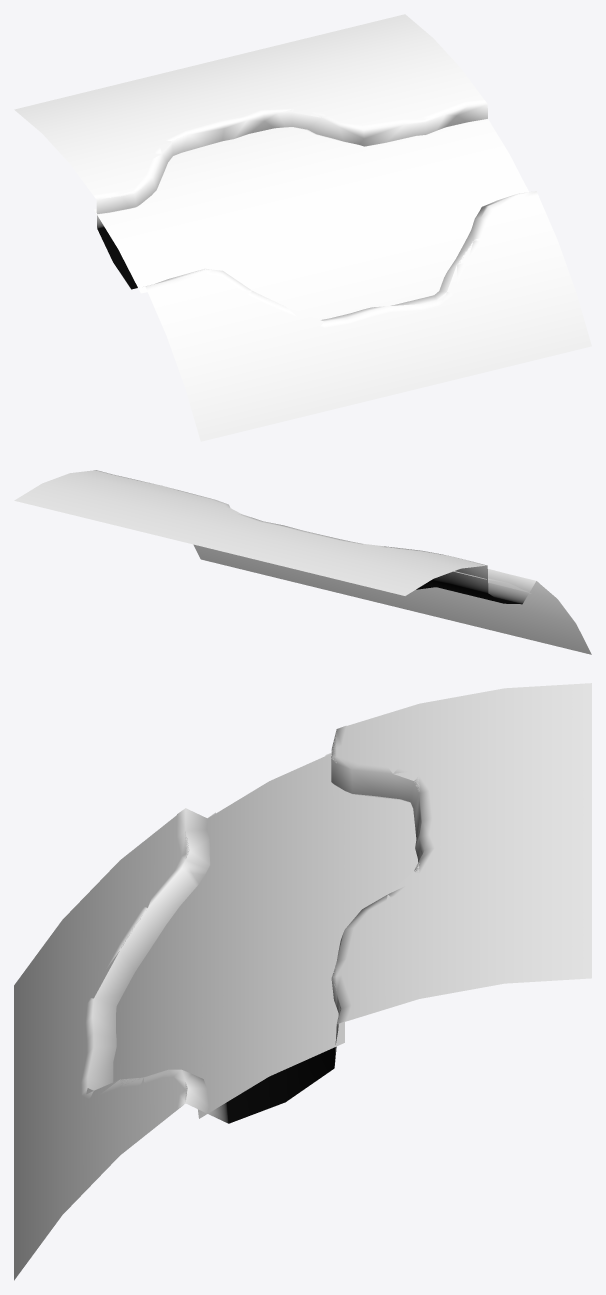
Rendered from grd_Re_P_1.dae.
3 renders of one model, top to bottom at view 1: azimuth 30°, elevation 25°; view 2: azimuth 150°, elevation 25°; view 3: azimuth 270°, elevation 25°, orthographic. The views are drawn at different scales.
Visible parts, largest first — view 1: grass_1_0, rever_2_0, cliff_rever_0_0, rever_edge_3_0; view 2: grass_1_0, cliff_rever_0_0; view 3: grass_1_0, rever_2_0, cliff_rever_0_0, rever_edge_3_0.
Boxes of the visible parts, x1,y1,x2,y2 form: grass_1_0: (14,14,591,441); rever_2_0: (94,119,528,319); cliff_rever_0_0: (93,99,538,327); rever_edge_3_0: (94,119,528,319); grass_1_0: (14,470,591,654); cliff_rever_0_0: (94,470,538,604); grass_1_0: (14,683,591,1280); rever_2_0: (113,754,417,1118); cliff_rever_0_0: (81,725,434,1123); rever_edge_3_0: (113,753,417,1118).
Size of the model in its own units: 512 by 244 by 423.
Materials: 4 (1 with a texture image).
